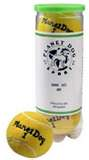tennis ball: (6, 110, 55, 155)
